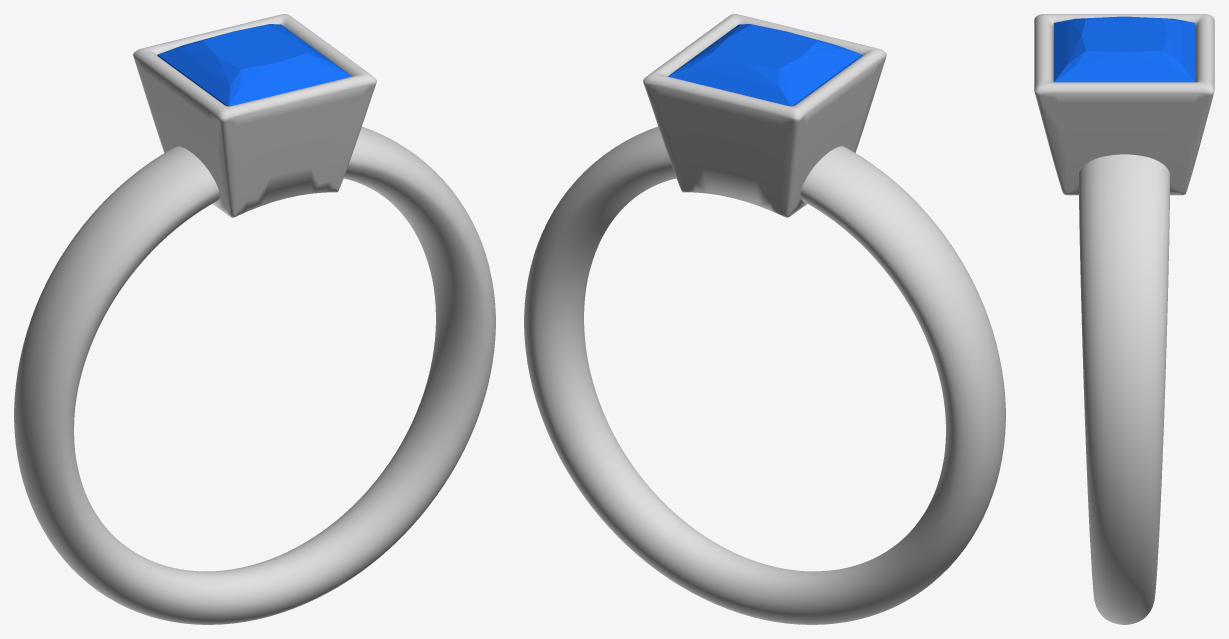
File: bluesapphire-princess-platinum-bezelset-taperedband-solitaire.glb
The picture shows the model from 3 angles, left to right: view 1: azimuth 30°, elevation 25°; view 2: azimuth 150°, elevation 25°; view 3: azimuth 270°, elevation 25°; orthographic projection.
Parts seen in each view (by area): view 1: metal, stone; view 2: metal, stone; view 3: metal, stone.
Boxes of the visible parts, bbox=[...] form: metal: bbox=[14, 14, 495, 624]; stone: bbox=[157, 24, 351, 106]; metal: bbox=[524, 14, 1005, 624]; stone: bbox=[668, 24, 862, 106]; metal: bbox=[1034, 14, 1214, 624]; stone: bbox=[1053, 16, 1195, 82].
Size of the model in its own units: 20.5 by 23.85 by 6.89.
